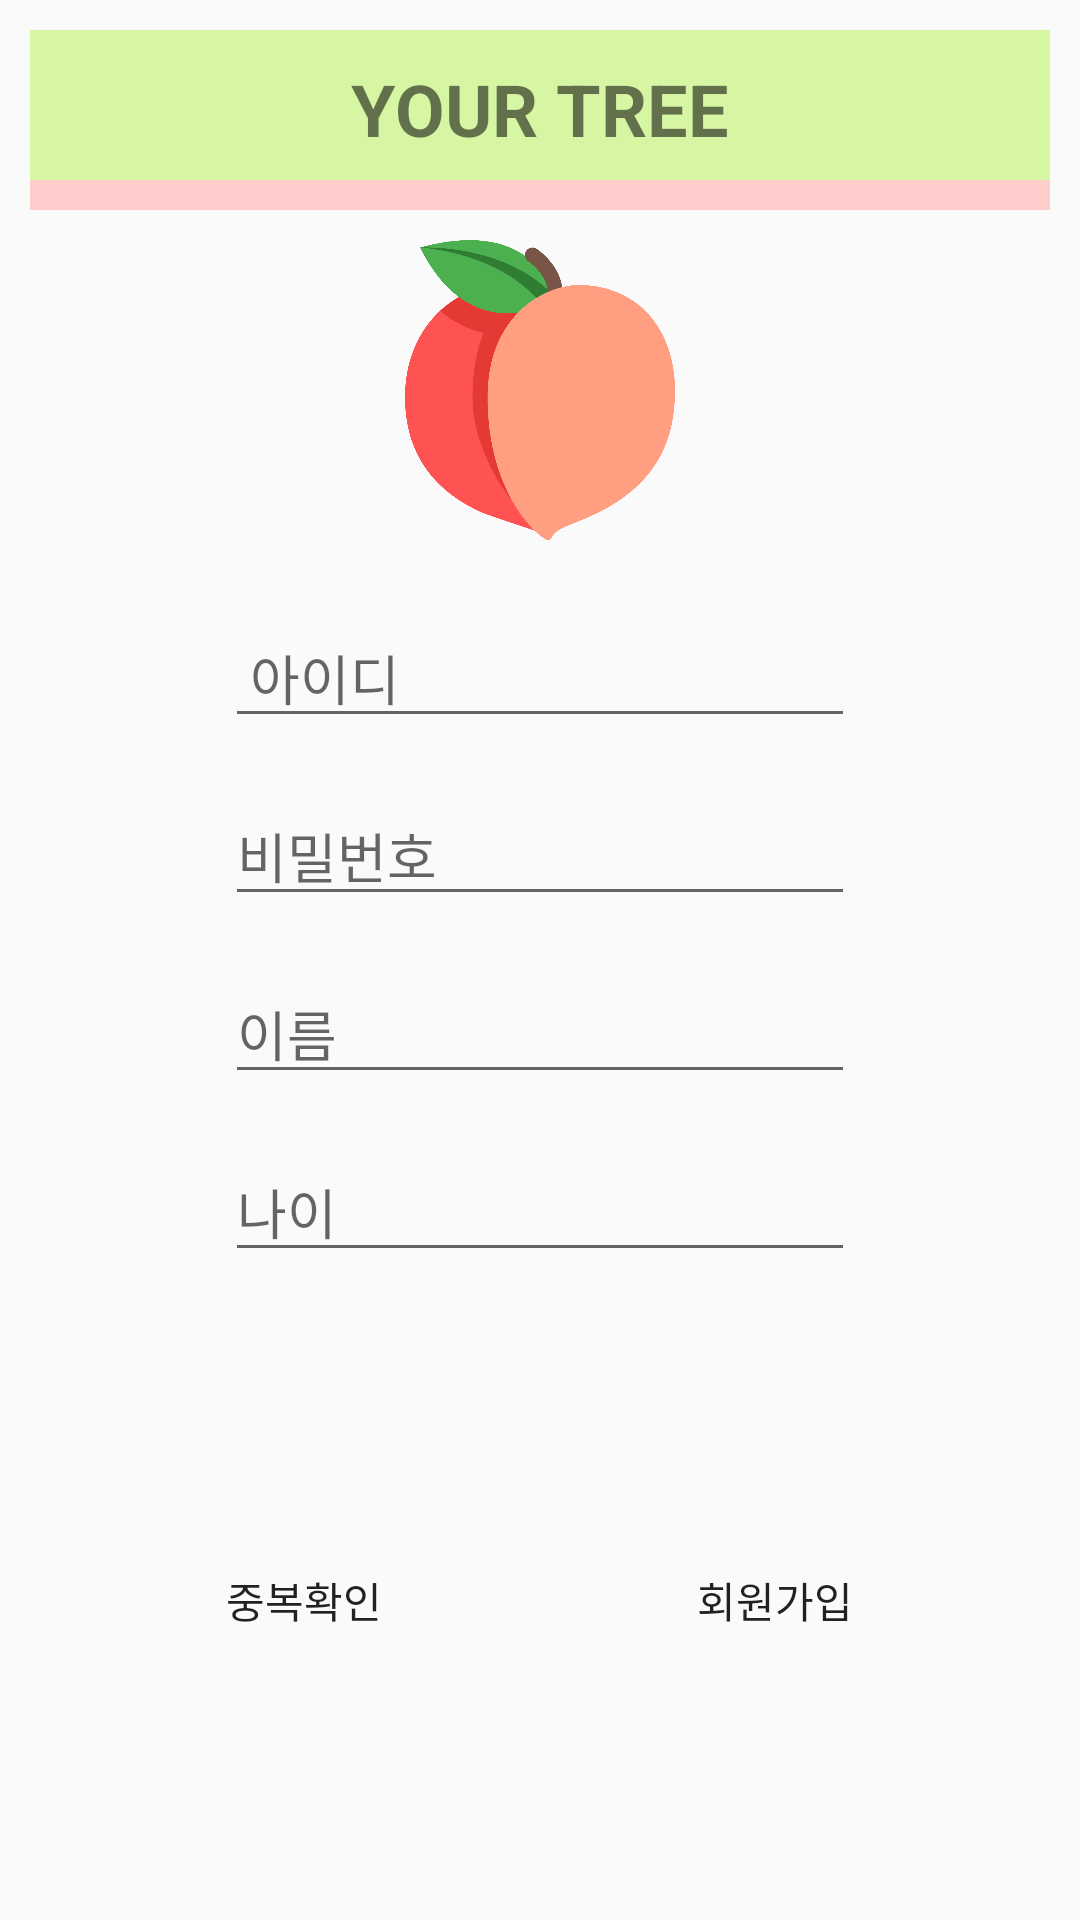

Icon click points for this 1080 x 1920 phone screenshot, format (x,y):
peach: (540,390)
